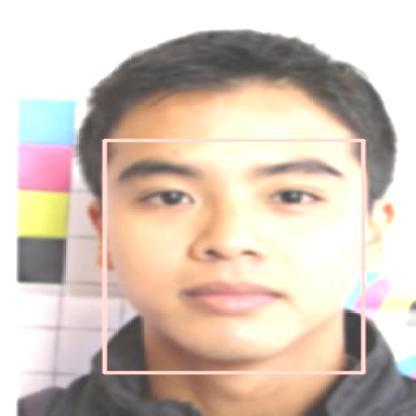without_mask: (104, 140, 363, 372)
